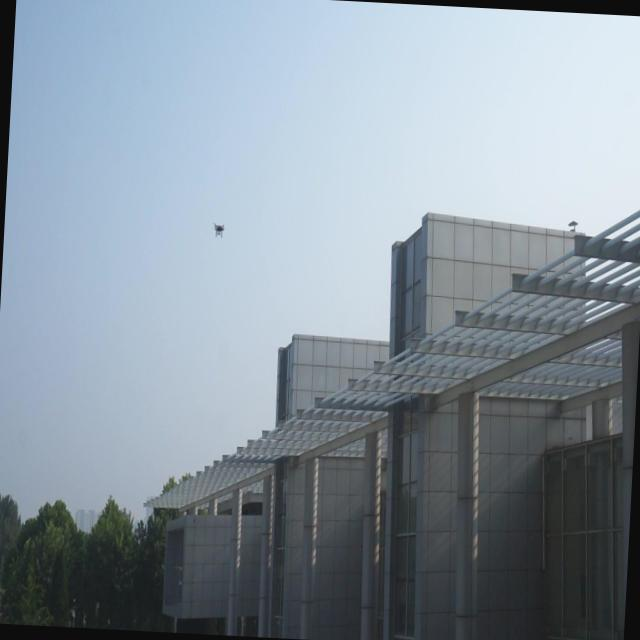drone: (210, 220, 227, 242)
